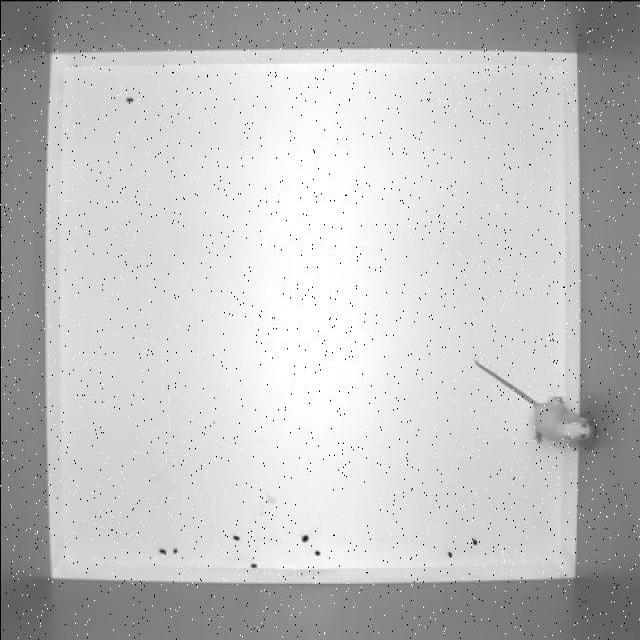rat: (470, 354, 600, 454)
